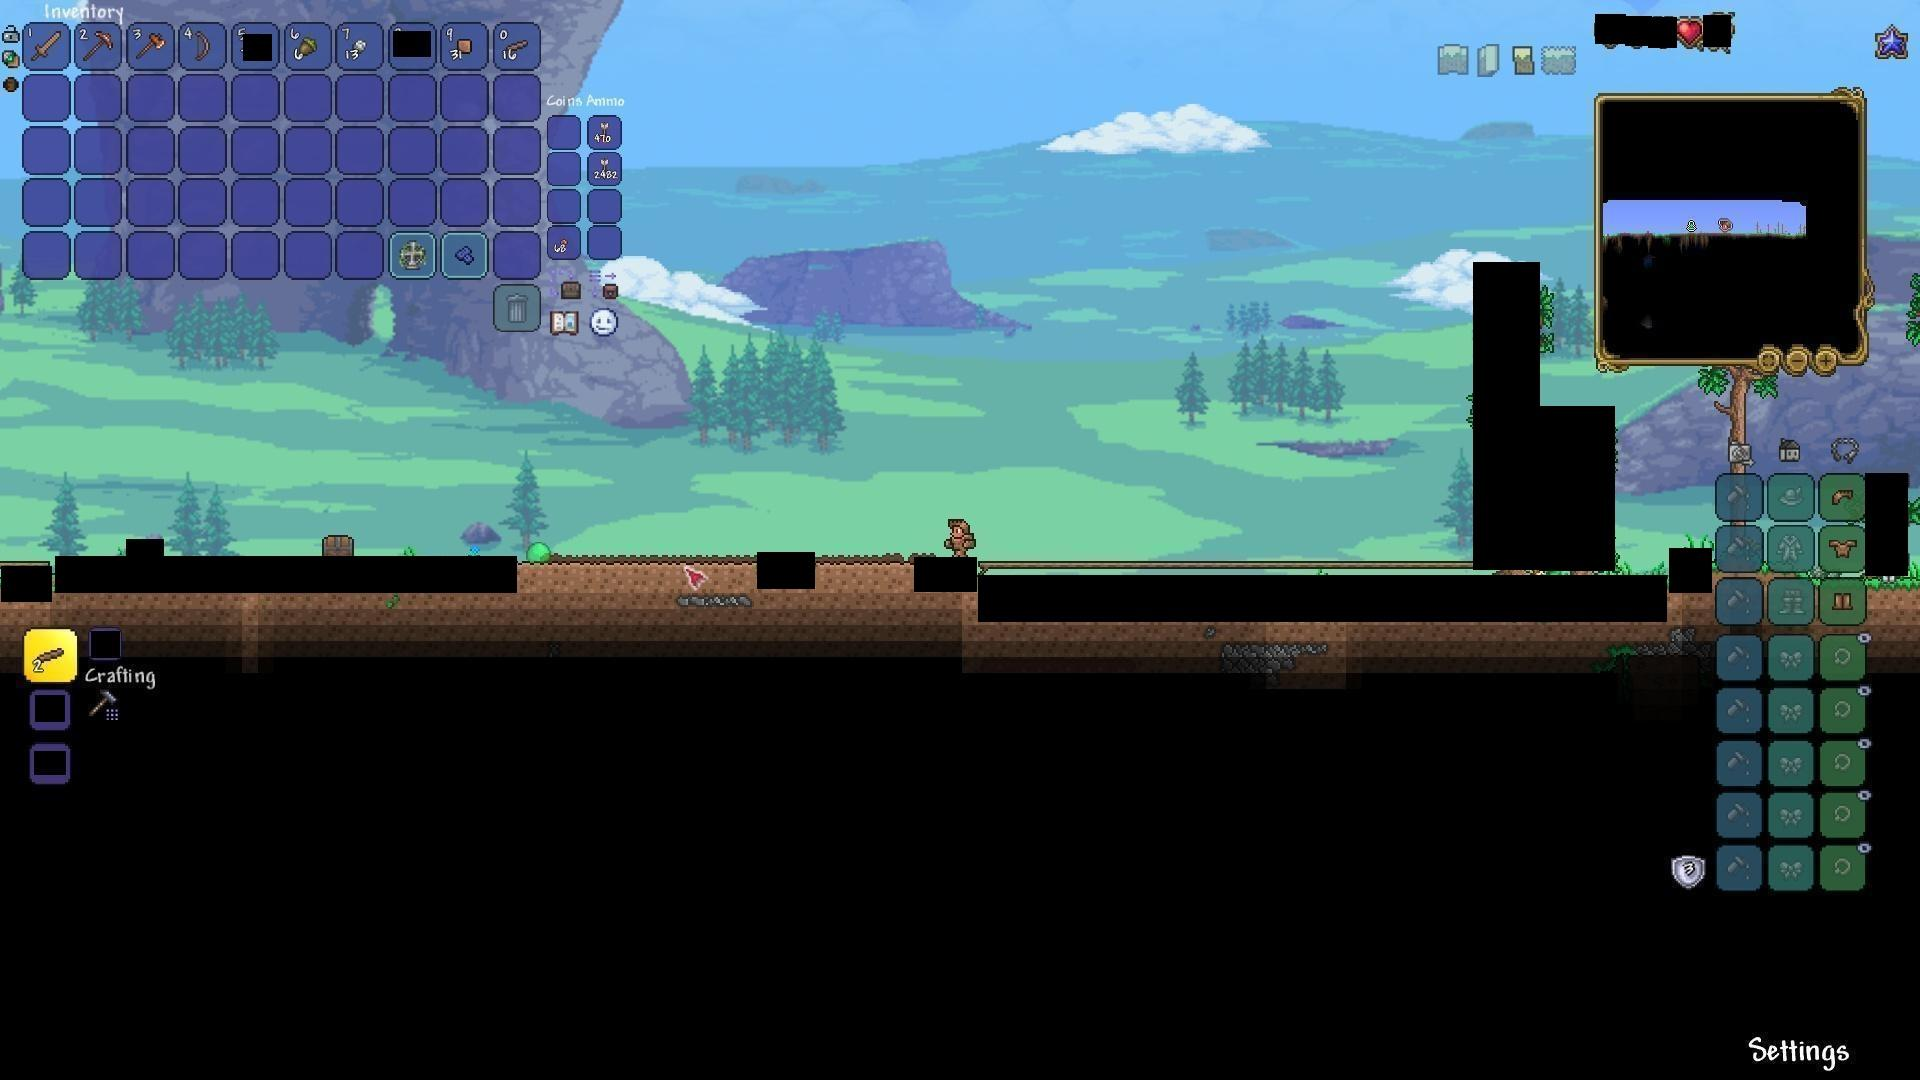breastplate: (1829, 537, 1858, 558)
dirt: (1865, 578, 1920, 624)
heart: (1675, 16, 1702, 47)
helmet: (1826, 484, 1857, 510)
legs: (1832, 588, 1855, 616)
slime: (526, 541, 551, 568)
